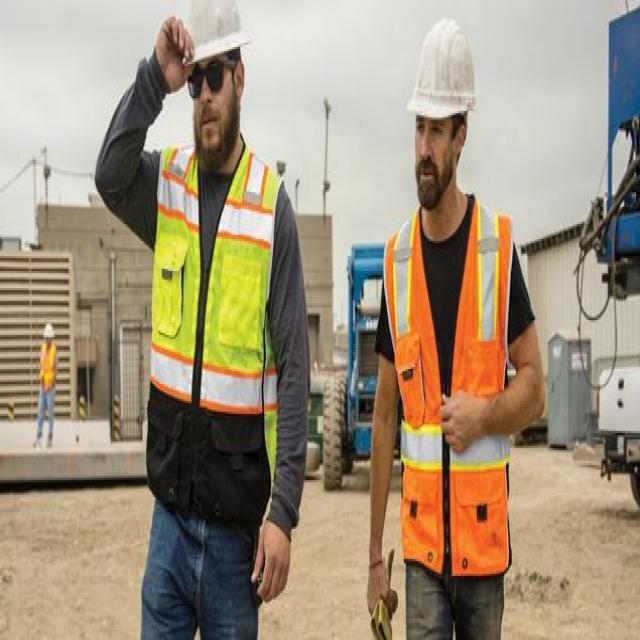Reflective-Jacket: (380, 194, 521, 583), (143, 134, 290, 472)
Safety-Helmet: (405, 13, 481, 130), (182, 2, 253, 71)
